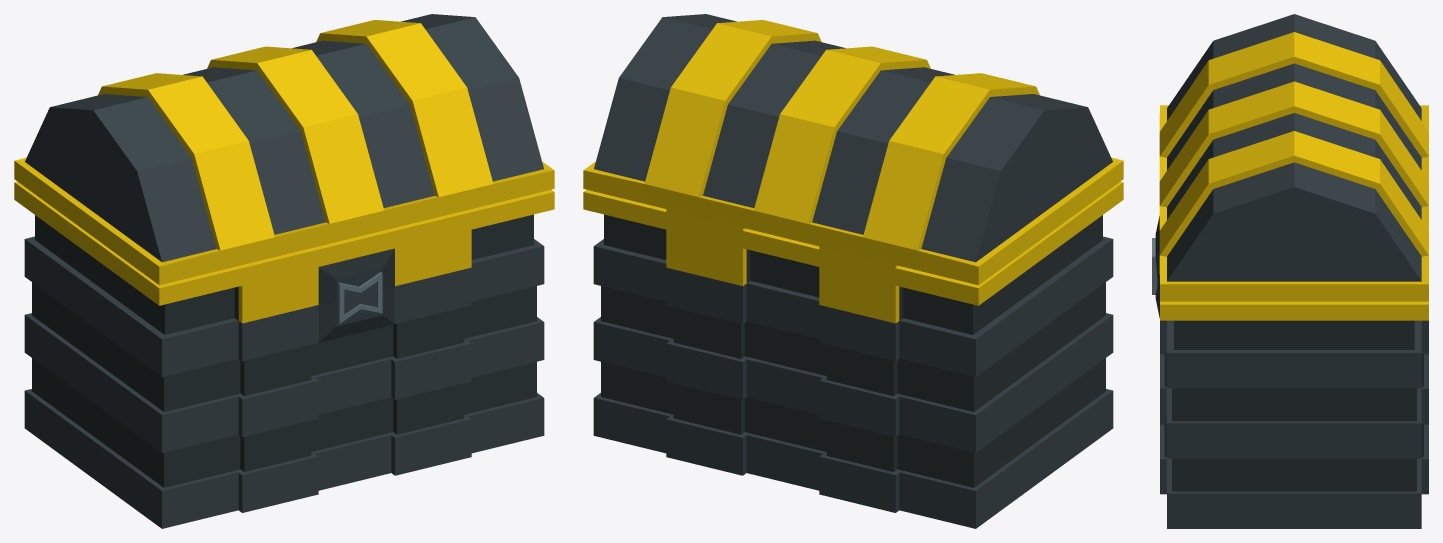
Rendered from ChestV3.fbx.
The picture shows the model from 3 angles, left to right: view 1: azimuth 30°, elevation 25°; view 2: azimuth 150°, elevation 25°; view 3: azimuth 270°, elevation 25°; orthographic projection. The views are drawn at different scales.
Visible parts, largest first — view 1: ChestV3, ChestV3_Top, ChestV3_Lock; view 2: ChestV3, ChestV3_Top; view 3: ChestV3_Top, ChestV3.
Part boxes in pixels (x1=…): ChestV3: x1=14, y1=181, x2=554, y2=528; ChestV3_Top: x1=14, y1=14, x2=554, y2=285; ChestV3_Lock: x1=336, y1=272, x2=382, y2=323; ChestV3: x1=583, y1=181, x2=1123, y2=528; ChestV3_Top: x1=583, y1=14, x2=1123, y2=285; ChestV3_Top: x1=1159, y1=14, x2=1428, y2=301; ChestV3: x1=1155, y1=216, x2=1428, y2=528.
Bounding box in the file's own units: 75.58 × 68.65 × 49.41.
